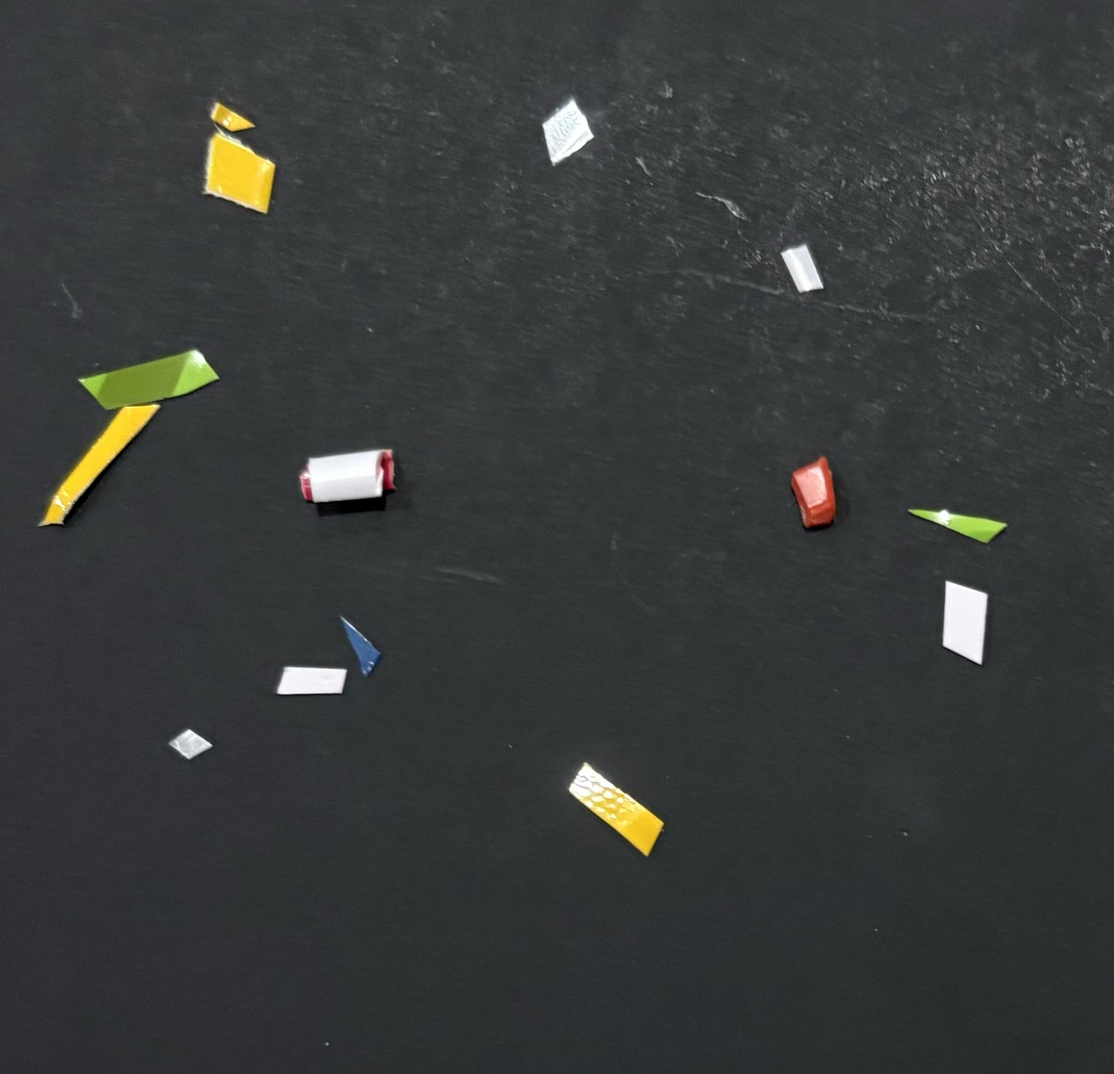Microplastic Particle: (37, 404, 161, 527), (284, 434, 419, 516), (570, 763, 663, 855), (79, 350, 218, 409), (206, 132, 275, 213), (786, 452, 853, 533), (943, 581, 987, 664), (543, 97, 595, 166), (909, 509, 1006, 543), (780, 241, 827, 294), (342, 617, 381, 676), (276, 666, 346, 695), (169, 729, 211, 759)
